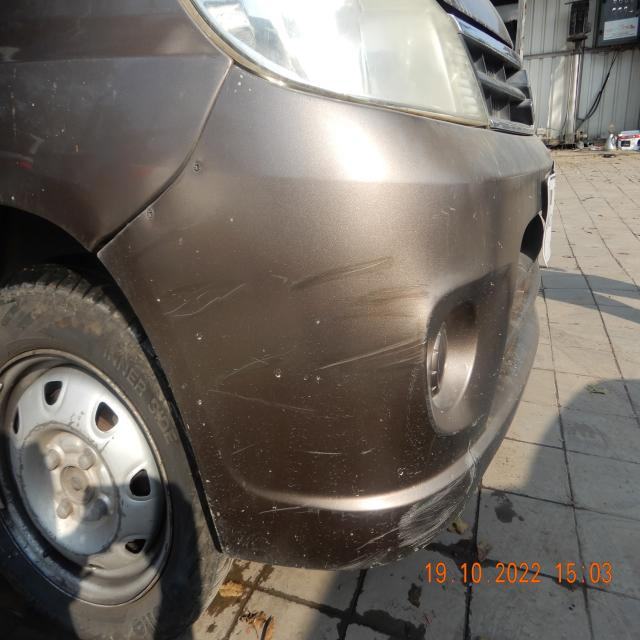damage: (217, 335, 426, 412), (365, 437, 477, 569), (168, 263, 290, 330)
